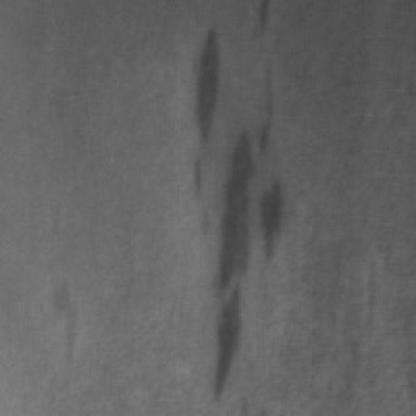inclusion: (187, 16, 283, 402), (179, 6, 231, 154), (40, 272, 81, 360), (252, 171, 289, 264)
